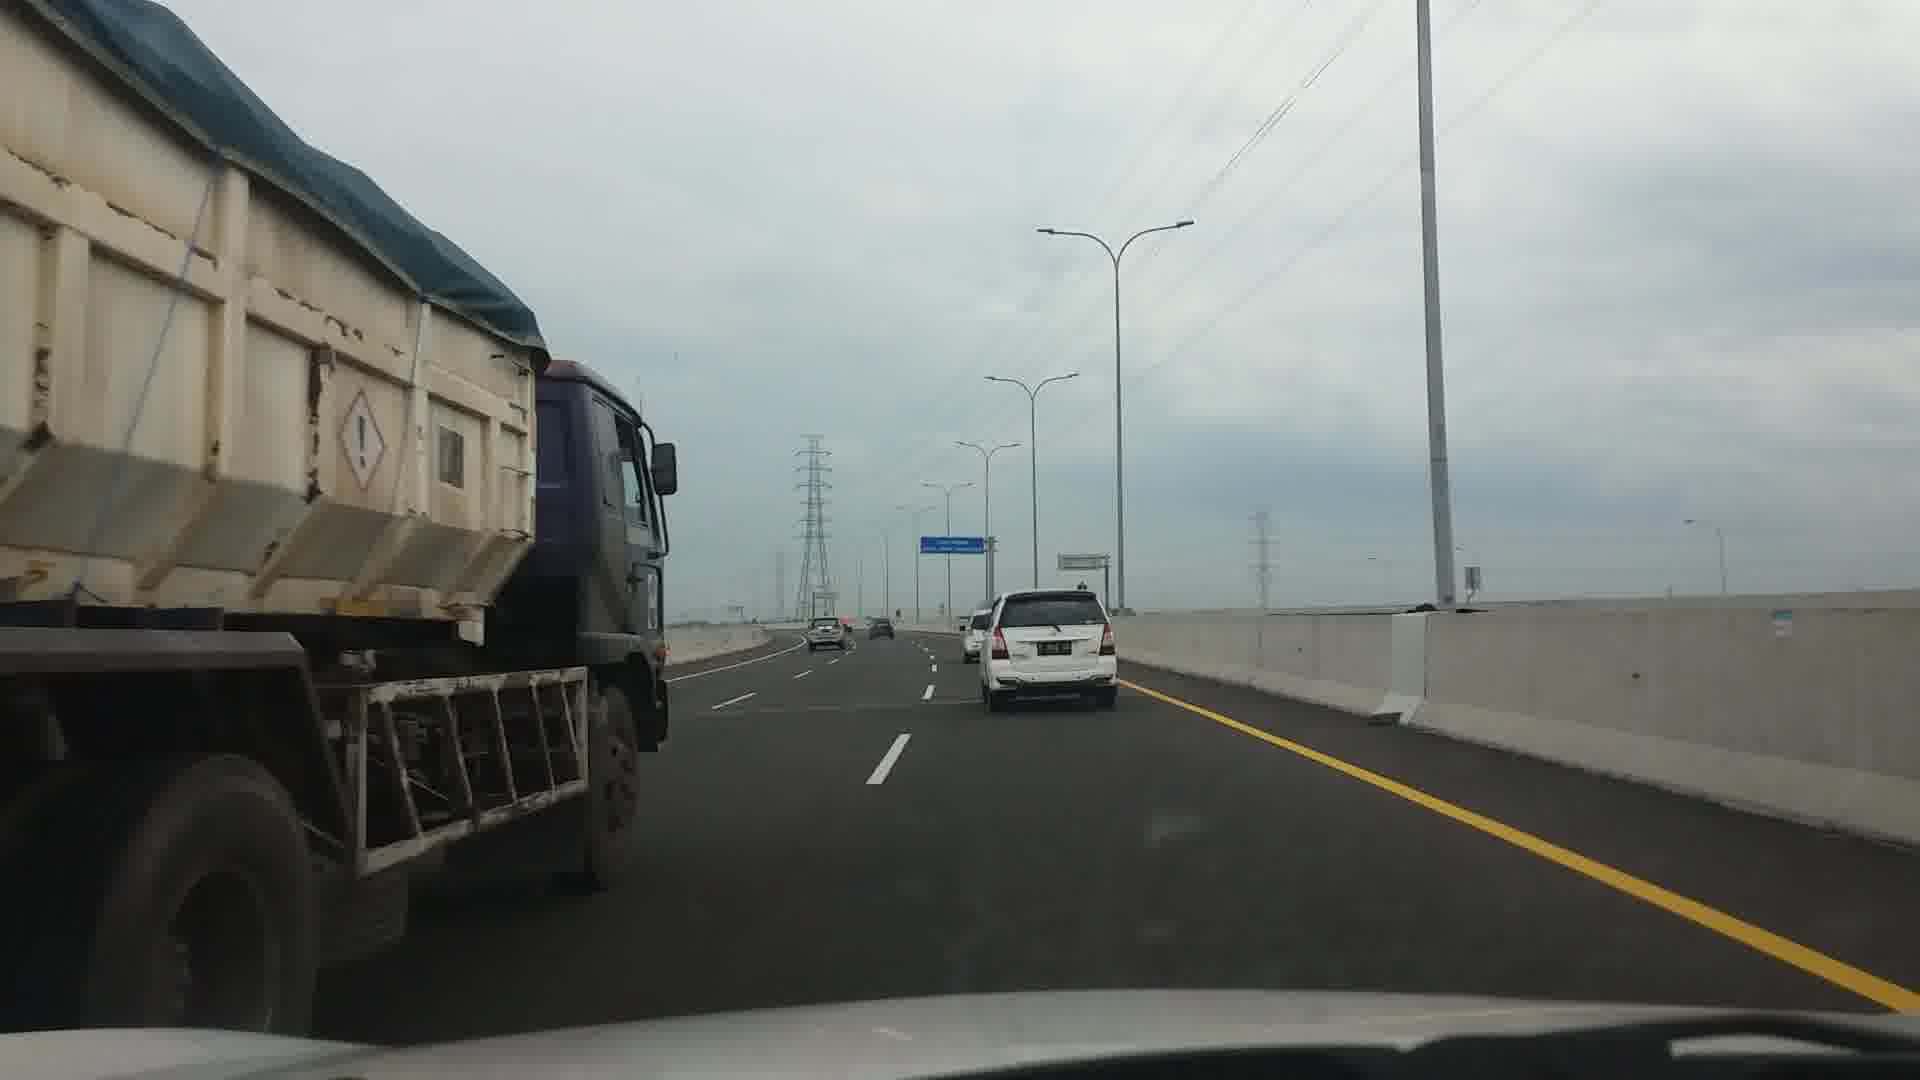plate_positive: (1036, 642, 1072, 655)
